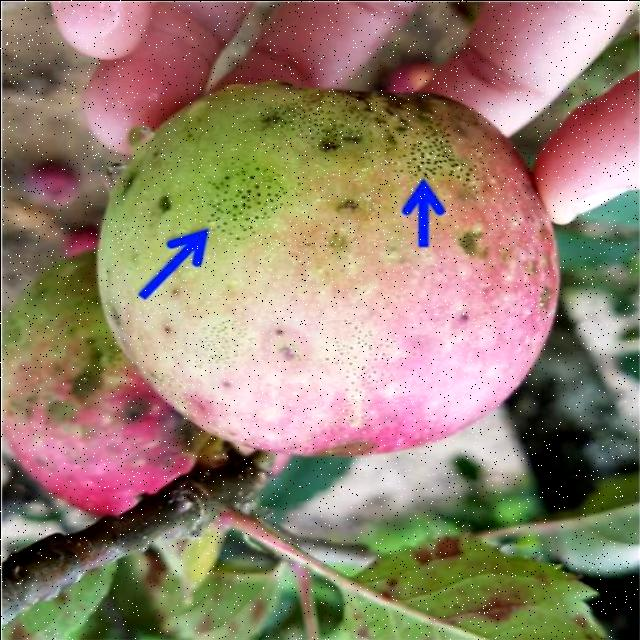BLOTCH: (56, 55, 580, 482)
